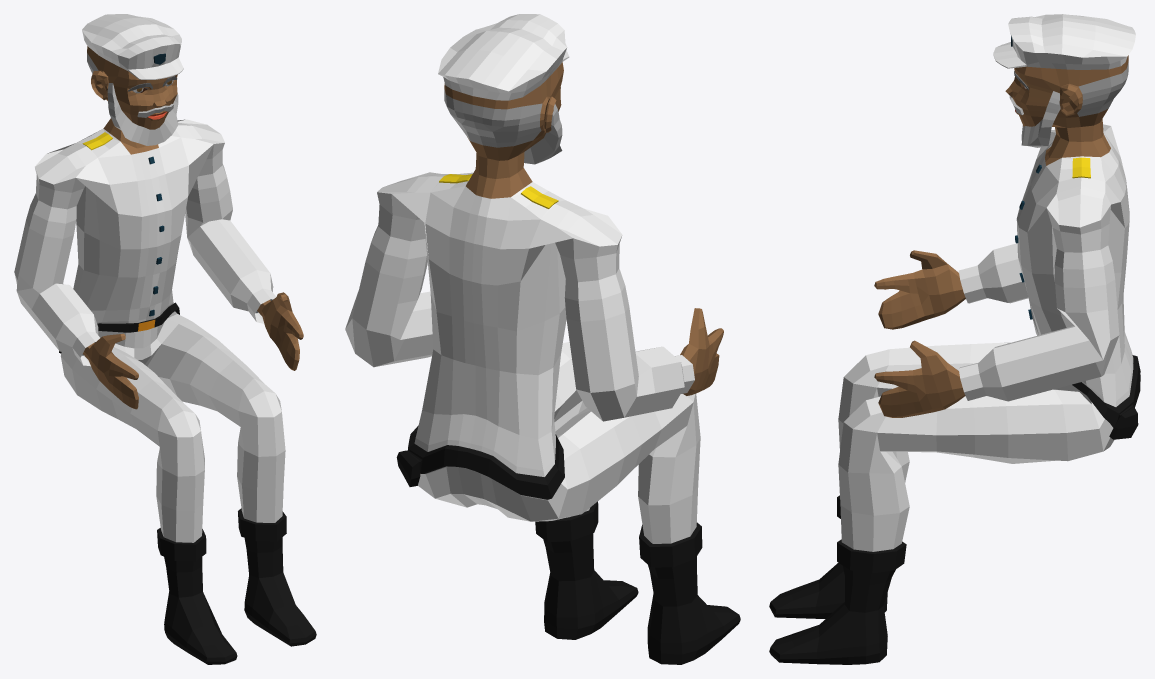
Rendered from TrafficPolice_Sit.fbx.
3 views of the same model, side by side, from view 1: azimuth 30°, elevation 25°; view 2: azimuth 150°, elevation 25°; view 3: azimuth 270°, elevation 25° (orthographic). The views are drawn at different scales.
Visible parts, largest first — view 1: TrafficPolice_Sit; view 2: TrafficPolice_Sit; view 3: TrafficPolice_Sit.
Boxes of the visible parts, left/top/right/bottom form: TrafficPolice_Sit: left=14, top=14, right=316, bottom=664; TrafficPolice_Sit: left=345, top=14, right=740, bottom=664; TrafficPolice_Sit: left=769, top=14, right=1140, bottom=664.
Size of the model in its own units: 0.324 by 0.7553 by 0.4155.
